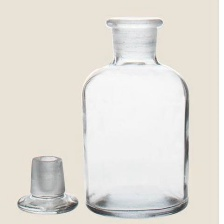bottle: (76, 13, 194, 220)
